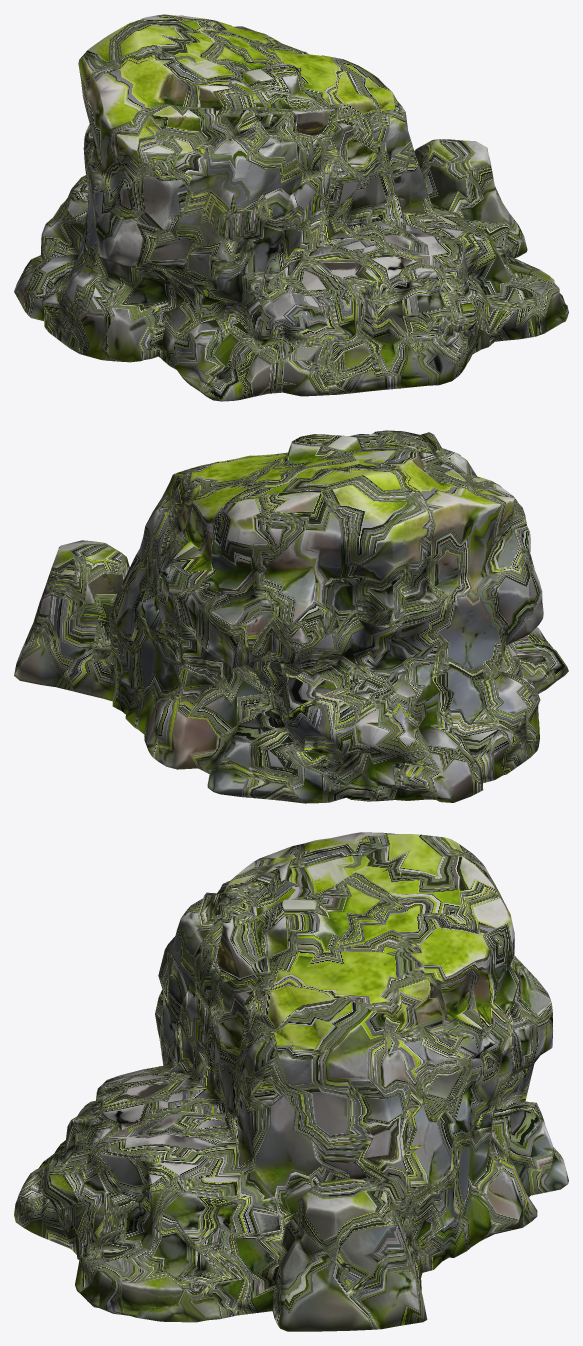
File: rock.glb
The picture shows the model from 3 angles, top to bottom: view 1: azimuth 30°, elevation 25°; view 2: azimuth 150°, elevation 25°; view 3: azimuth 270°, elevation 25°; orthographic projection. The views are drawn at different scales.
Size of the model in its own units: 1.9 by 1.06 by 1.73.
Materials: 1 (1 with a texture image).
